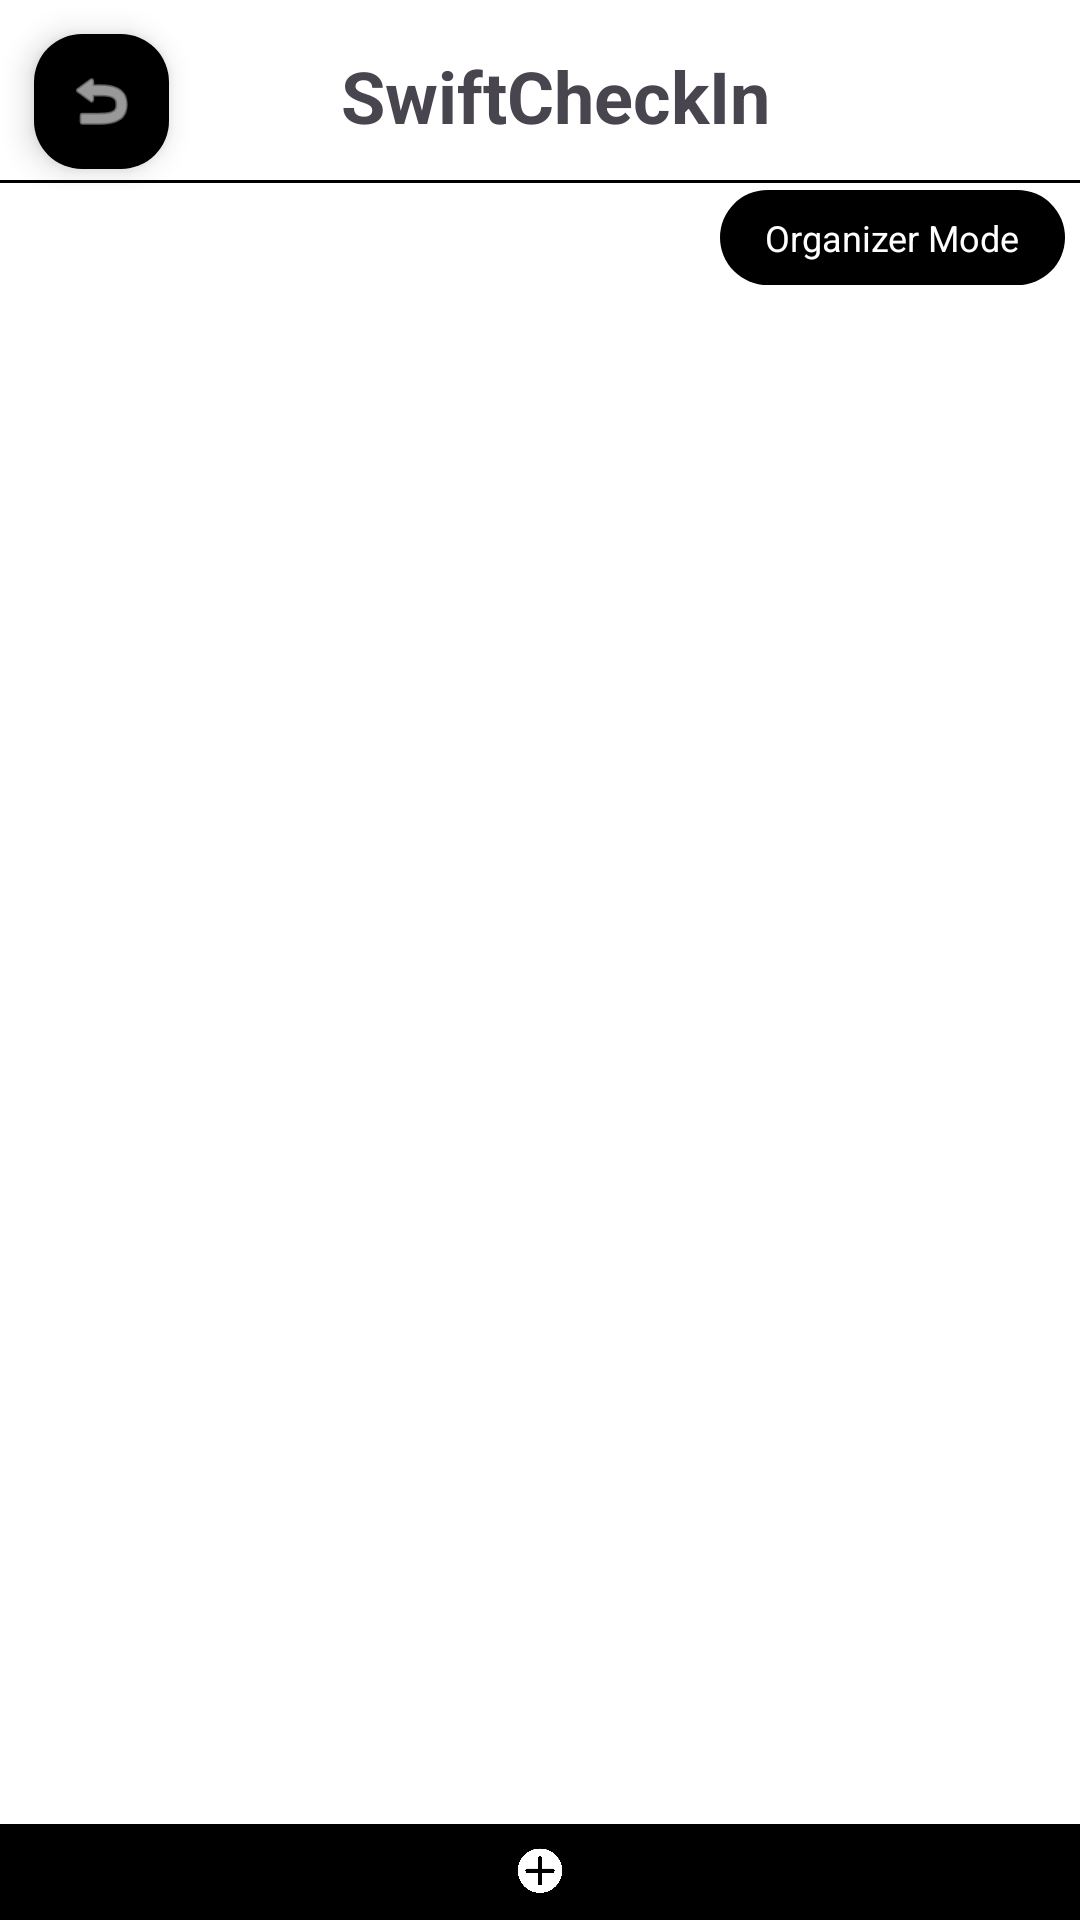

Screen size 1080w x 1920h. Icon name, then its box in pixels as region(x1, y1, x2, y2):
revert: region(34, 34, 169, 169)
